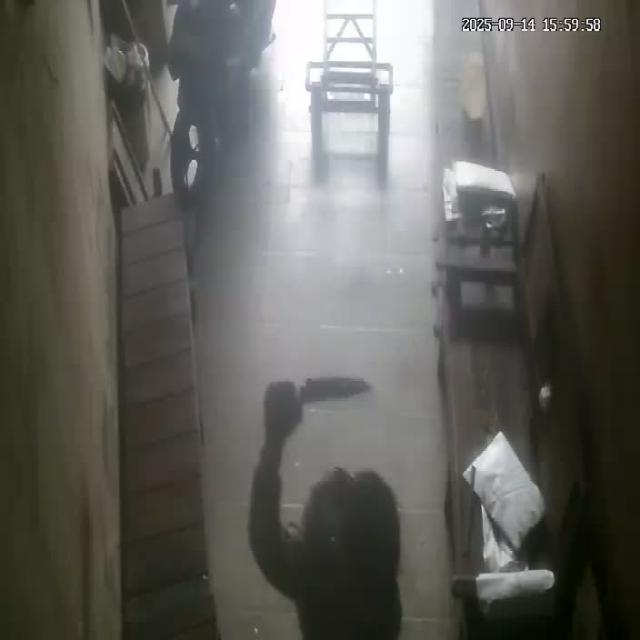senjata_tajam: (297, 371, 378, 408)
